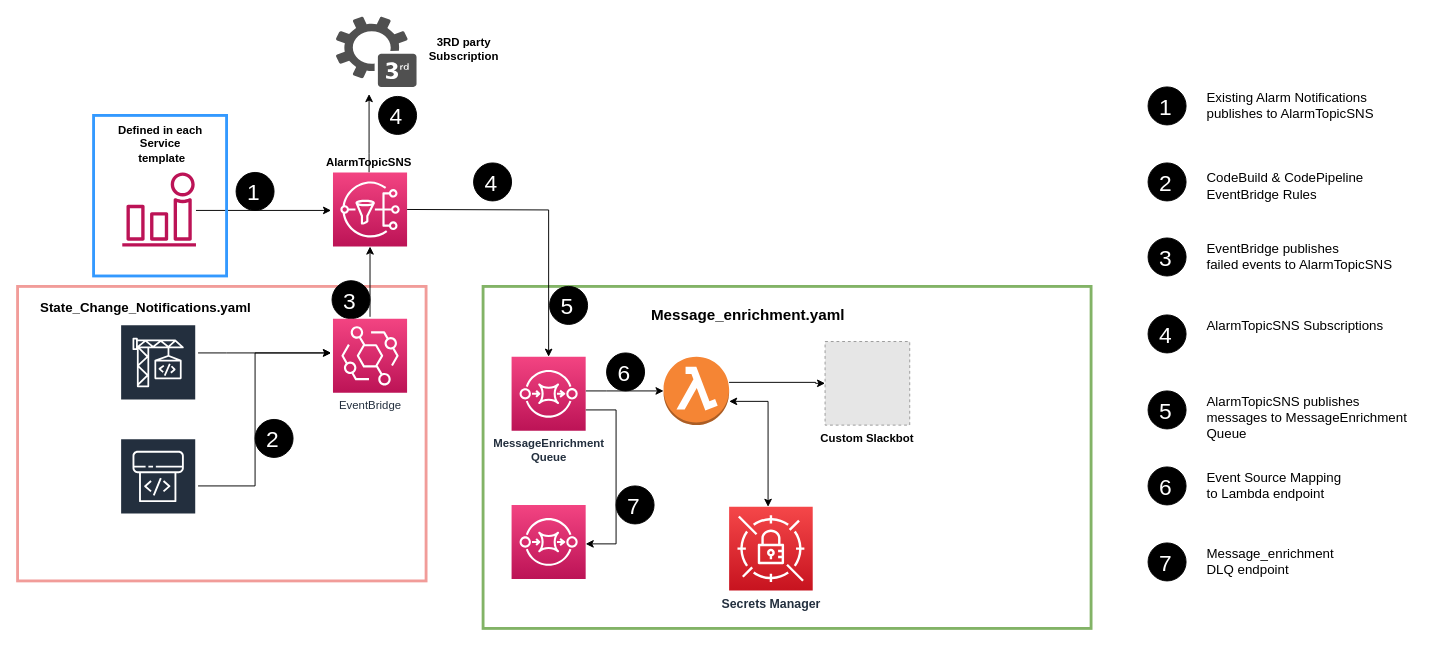
This 1440x646 diagram has some shape labels left out. Grey dashed boxes stand in for pictures. The box of each missing label's shape, as (x1, y1, x2, y2) in pixels:
AWS CodeBuild: (119, 323, 196, 429)
AWS CodePipeline: (119, 437, 196, 543)
CloudWatch Alarm: (122, 172, 196, 246)
Message_enrichment Lambda: (663, 356, 729, 425)
MessageEnrichment Queue-DQL: (511, 504, 586, 579)
